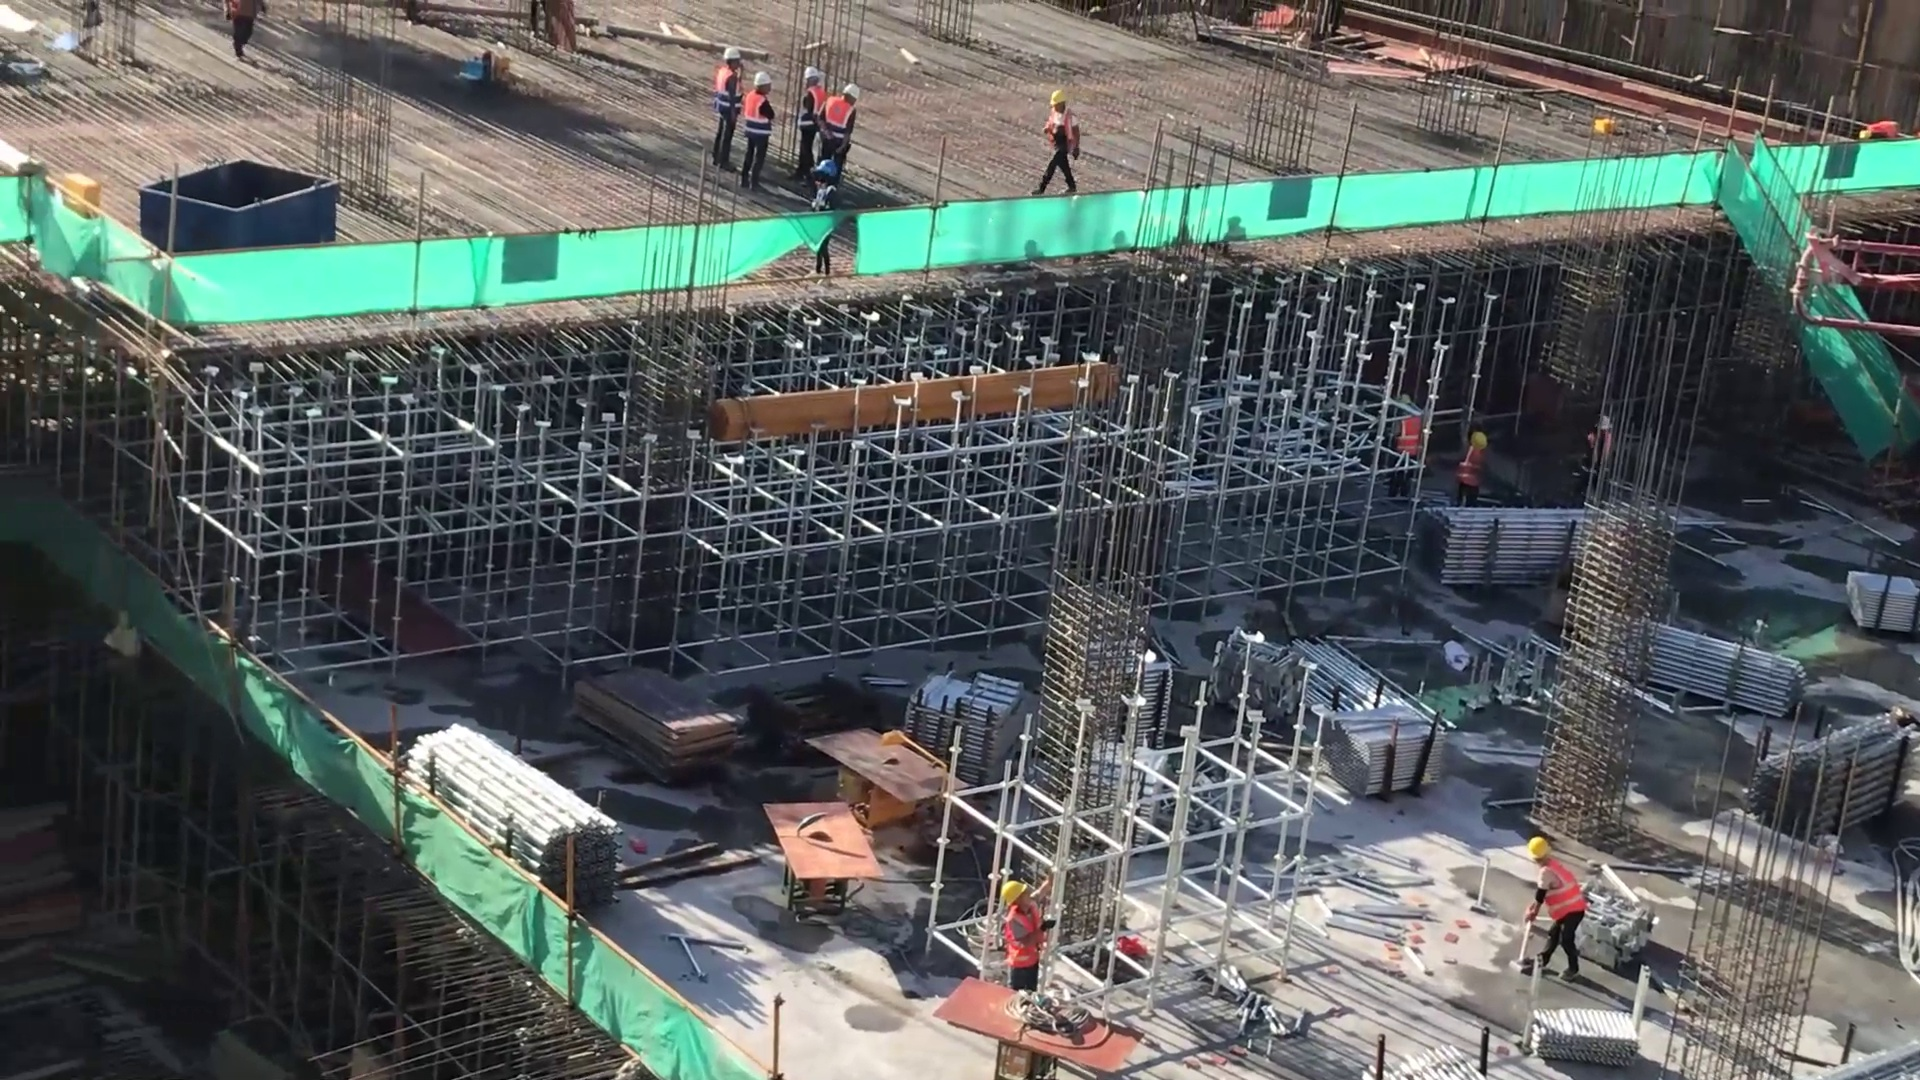board: (568, 653, 751, 794)
cutter: (760, 784, 884, 896)
helmet: (720, 54, 880, 99), (994, 869, 1031, 907), (1523, 834, 1554, 862), (1043, 84, 1067, 113)
person: (1524, 834, 1588, 995), (998, 877, 1047, 990), (1036, 87, 1084, 195), (822, 82, 858, 194), (739, 71, 772, 191), (715, 45, 740, 181), (794, 63, 821, 169), (1397, 392, 1424, 493), (1462, 425, 1486, 515)
scaffold: (400, 719, 629, 918), (1281, 631, 1450, 806), (1745, 706, 1906, 831), (1613, 622, 1812, 721), (1416, 494, 1597, 595), (906, 667, 1027, 779)
vest: (995, 905, 1043, 974), (1540, 866, 1587, 920), (742, 88, 772, 142), (824, 95, 851, 146)
